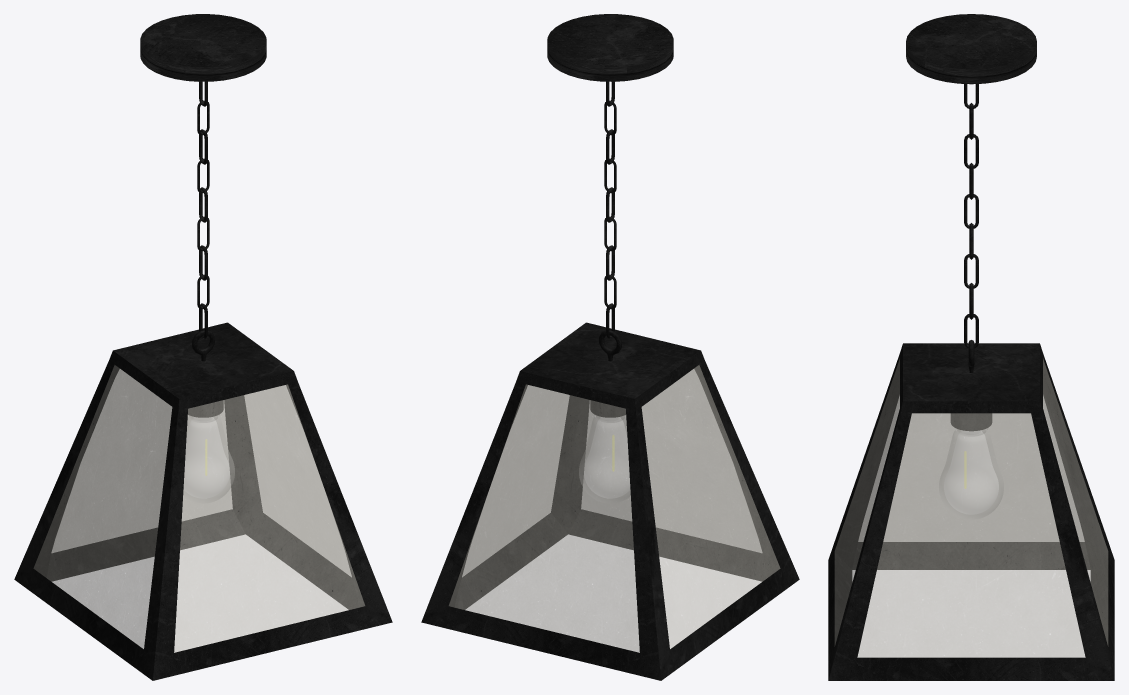
The model's file is serene-pendant-light.glb.
3 renders of one model, left to right at view 1: azimuth 30°, elevation 25°; view 2: azimuth 150°, elevation 25°; view 3: azimuth 270°, elevation 25°, orthographic. The views are drawn at different scales.
Visible parts, largest first — view 1: lamp_frame, base, bulb, hanging, holder; view 2: lamp_frame, base, bulb, hanging, holder; view 3: lamp_frame, base, bulb, hanging, holder.
Boxes of the visible parts, bbox=[...] form: lamp_frame: bbox=[14, 322, 392, 680]; base: bbox=[140, 14, 266, 81]; bulb: bbox=[183, 415, 234, 502]; hanging: bbox=[192, 81, 214, 361]; holder: bbox=[183, 352, 223, 417]; lamp_frame: bbox=[421, 322, 799, 680]; base: bbox=[547, 14, 673, 81]; bulb: bbox=[579, 415, 630, 502]; hanging: bbox=[599, 81, 621, 361]; holder: bbox=[590, 352, 630, 417]; lamp_frame: bbox=[828, 343, 1114, 680]; base: bbox=[906, 14, 1036, 84]; bulb: bbox=[939, 428, 1003, 519]; hanging: bbox=[964, 84, 978, 372]; holder: bbox=[950, 363, 992, 431].
Bounding box in the file's own units: 0.418 × 0.9327 × 0.418.
Materials: 4 (2 with a texture image).
